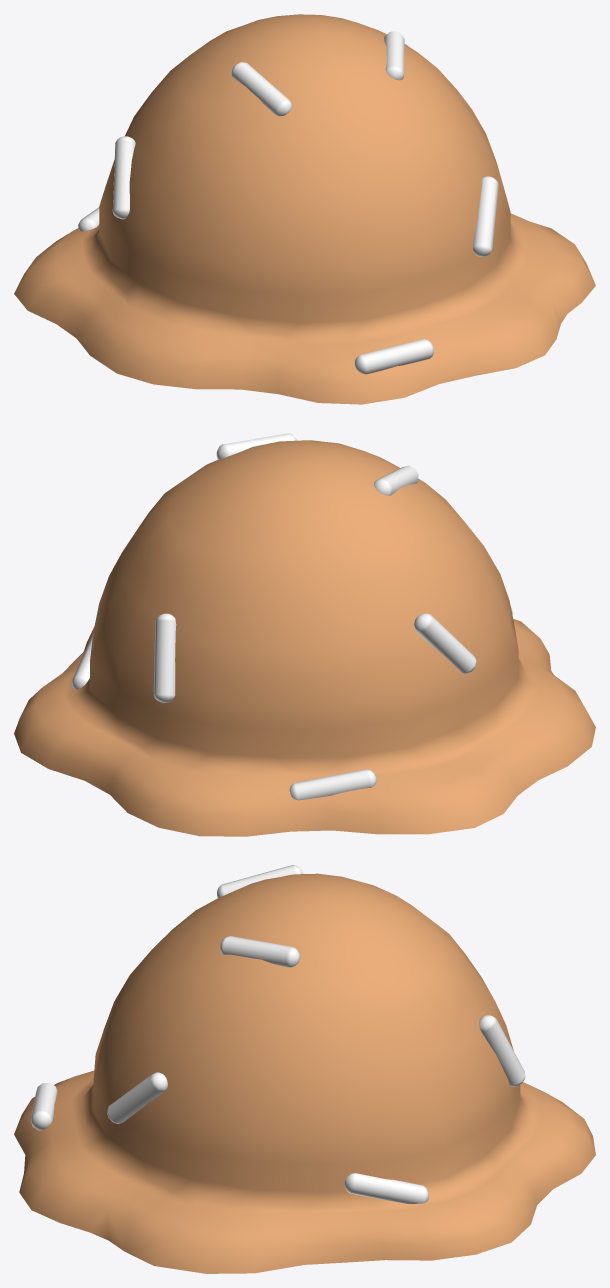
Rendered from SM_Icecream_Ball.fbx.
3 views of the same model, one above another, from view 1: azimuth 30°, elevation 25°; view 2: azimuth 150°, elevation 25°; view 3: azimuth 270°, elevation 25° (orthographic). The views are drawn at different scales.
Parts seen in each view (by area): view 1: SM_Icecream_Ball; view 2: SM_Icecream_Ball; view 3: SM_Icecream_Ball.
Part boxes in pixels (<box>): SM_Icecream_Ball: <box>14,14,595,404</box>; SM_Icecream_Ball: <box>14,433,595,836</box>; SM_Icecream_Ball: <box>14,865,595,1273</box>.
Size of the model in its own units: 420 by 217 by 435.
